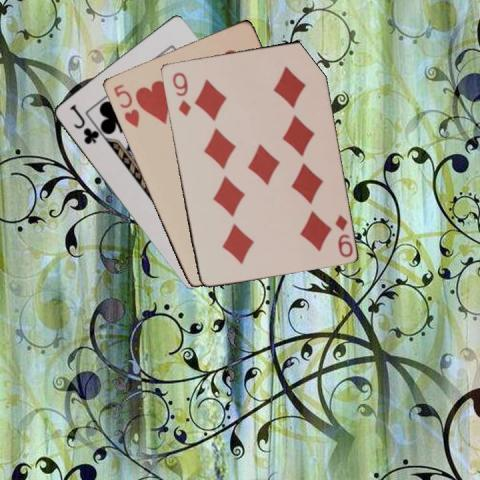5h: (110, 81, 141, 129)
9d: (169, 69, 192, 117), (332, 211, 353, 259)
Jc: (66, 101, 99, 146)
